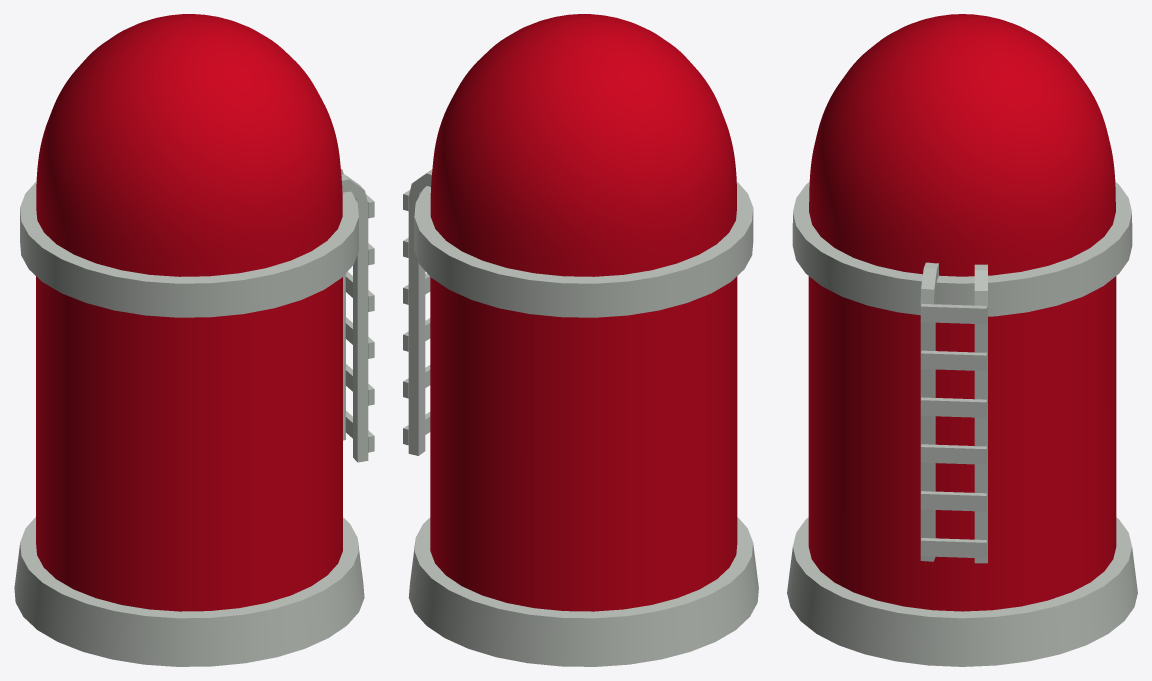
File: Ambar.fbx
The picture shows the model from 3 angles, left to right: view 1: azimuth 30°, elevation 25°; view 2: azimuth 150°, elevation 25°; view 3: azimuth 270°, elevation 25°; orthographic projection.
Visible parts, largest first — view 1: Ambar_loader; view 2: Ambar_loader; view 3: Ambar_loader.
Boxes of the visible parts, <box> form: Ambar_loader: <box>14,14,374,666</box>; Ambar_loader: <box>403,14,758,666</box>; Ambar_loader: <box>787,14,1137,666</box>.
Size of the model in its own units: 72.8 by 123 by 69.01.
